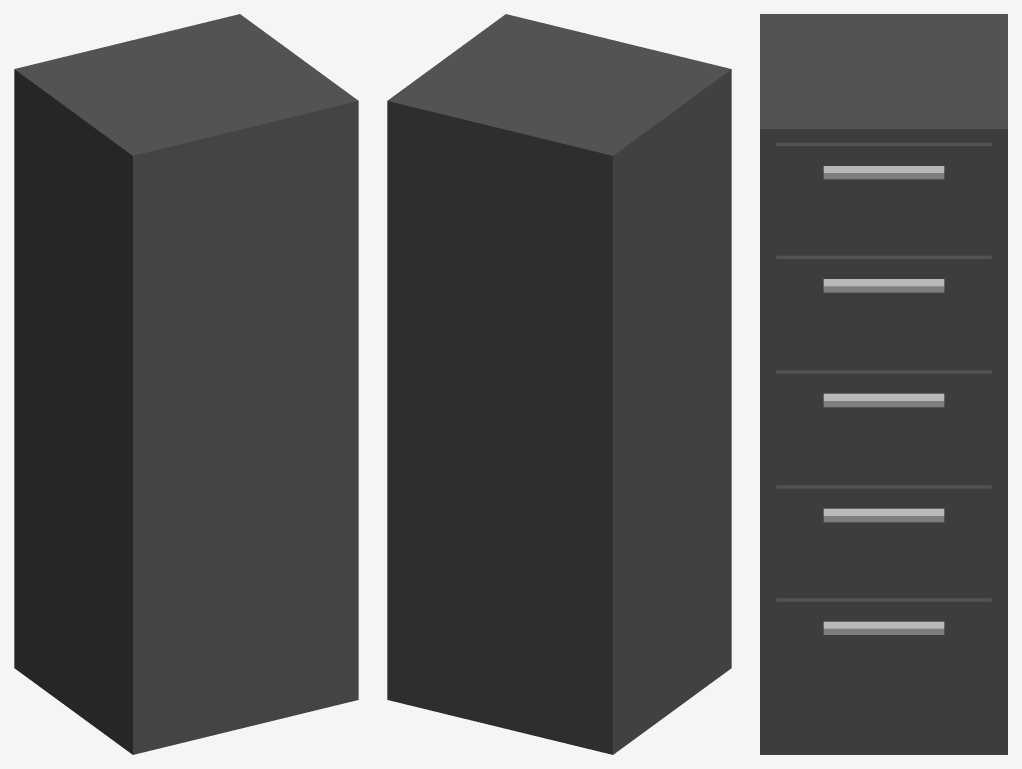
The model's file is Skuffeparti_2.fbx.
3 renders of one model, left to right at view 1: azimuth 30°, elevation 25°; view 2: azimuth 150°, elevation 25°; view 3: azimuth 270°, elevation 25°, orthographic. The views are drawn at different scales.
Visible parts, largest first — view 1: Skuffeparti_2.001; view 2: Skuffeparti_2.001; view 3: Skuffeparti_2.001, Skuffeparti_2Skuffe.001, Skuffeparti_2Skuffe.003, Skuffeparti_2Skuffe.004, Skuffeparti_2Skuffe.005, Skuffeparti_2Skuffe.006.
Part boxes in pixels (left/top/right/bottom): Skuffeparti_2.001: left=14, top=14, right=358, bottom=754; Skuffeparti_2.001: left=387, top=14, right=731, bottom=754; Skuffeparti_2.001: left=760, top=14, right=1007, bottom=754; Skuffeparti_2Skuffe.001: left=776, top=142, right=991, bottom=245; Skuffeparti_2Skuffe.003: left=776, top=598, right=991, bottom=701; Skuffeparti_2Skuffe.004: left=776, top=485, right=991, bottom=588; Skuffeparti_2Skuffe.005: left=776, top=370, right=991, bottom=473; Skuffeparti_2Skuffe.006: left=776, top=255, right=991, bottom=358.
Size of the model in its own units: 132 by 313 by 112.
